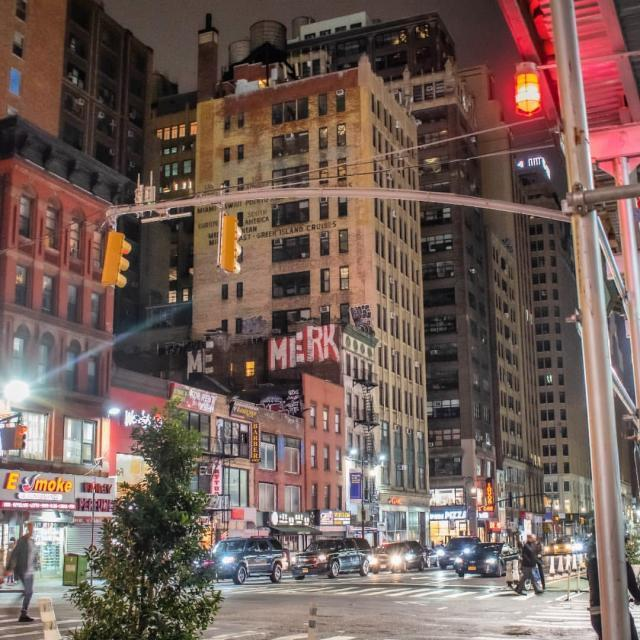-: (262, 319, 340, 372), (180, 339, 220, 377)
